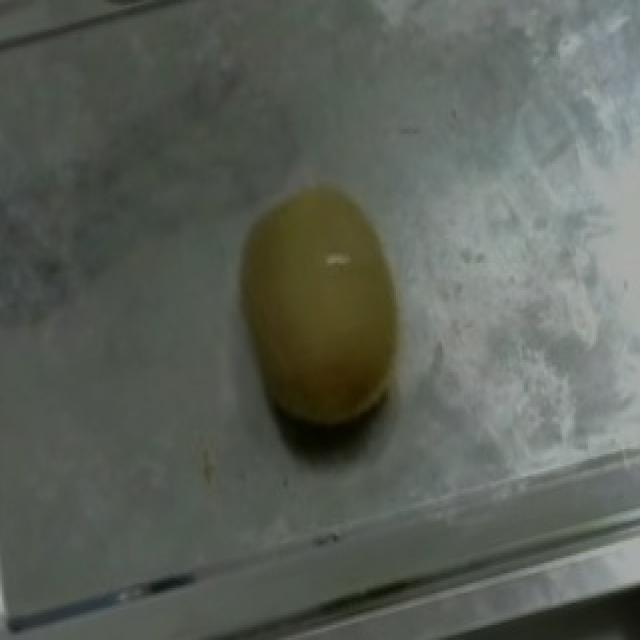Fruit: (196, 156, 442, 472)
